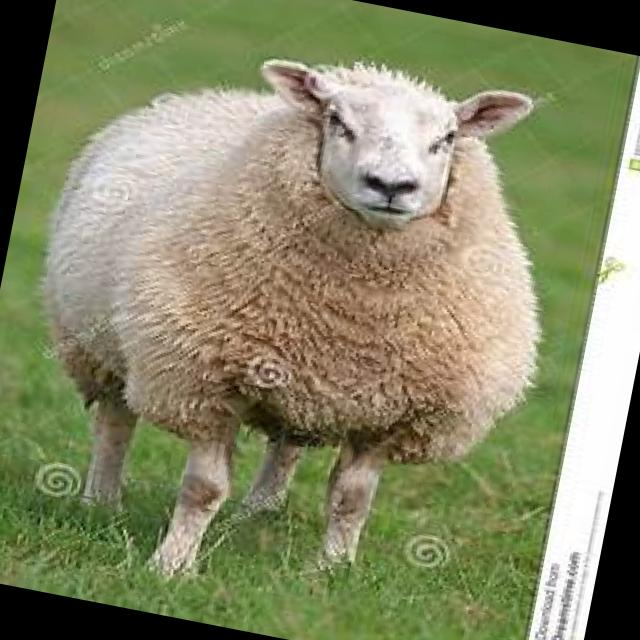sheep: (0, 3, 589, 640)
